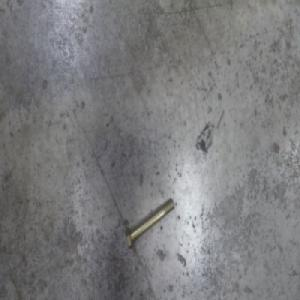Bolt: (125, 196, 175, 253)
